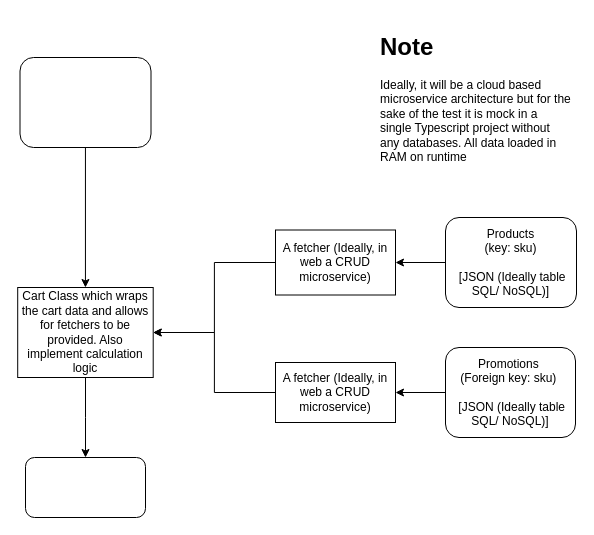
The diagram is 594 pixels wide and 535 high, and some of its shapes have lost their labels. The shapes that lost their labels are listed below. From the top down, each one's box as (x1, y1, x2, y2) in pixels, then its label:
(19, 56, 151, 148): Cart (Record<string, Item>) [Ideally, a cart table SQL/ NOSQL]
(24, 456, 146, 518): Interface
